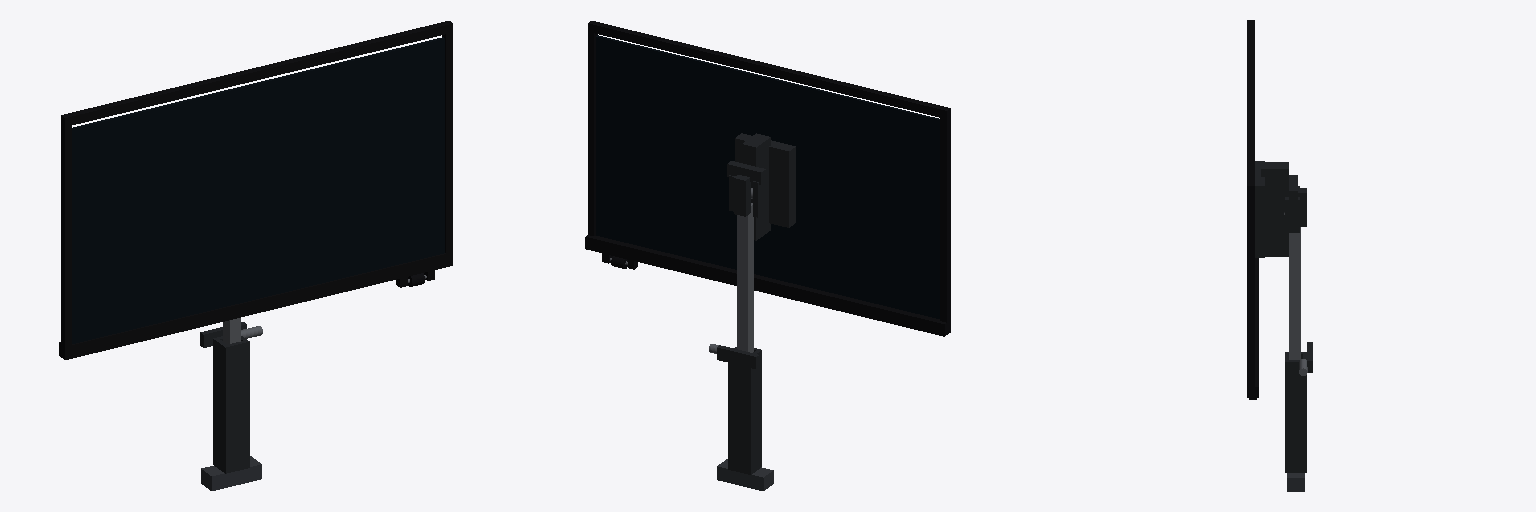
URDF robot description (compact_office_monitor):
<robot name="compact_office_monitor">
  <material name="charcoal">
    <color rgba="0.16 0.17 0.18 1" />
    </material>
  <material name="graphite">
    <color rgba="0.22 0.23 0.25 1" />
    </material>
  <material name="black">
    <color rgba="0.08 0.08 0.09 1" />
    </material>
  <material name="satin">
    <color rgba="0.36 0.37 0.39 1" />
    </material>
  <material name="screen_glass">
    <color rgba="0.06 0.09 0.11 0.94" />
    </material>
  <link name="base">
    <inertial>
      <origin xyz="0 -0.002 0.099" rpy="0 0 0" />
      <mass value="3.4" />
      <inertia ixx="0.0213361" ixy="0" ixz="0" iyy="0.0260961" iyz="0" izz="0.0252167" />
      </inertial>
    <visual name="foot">
      <origin xyz="0 -0.01 0.007" rpy="0 0 0" />
      <geometry>
        <mesh filename="assets/meshes/monitor_foot.obj" />
        </geometry>
      <material name="graphite">
        <color rgba="0.22 0.23 0.25 1" />
        </material>
      </visual>
    <visual name="foot_riser">
      <origin xyz="0 0.034 0.024" rpy="0 0 0" />
      <geometry>
        <box size="0.07 0.026 0.02" />
        </geometry>
      <material name="graphite">
        <color rgba="0.22 0.23 0.25 1" />
        </material>
      </visual>
    <visual name="sleeve_left_wall">
      <origin xyz="-0.014 0.034 0.118" rpy="0 0 0" />
      <geometry>
        <box size="0.006 0.03 0.168" />
        </geometry>
      <material name="charcoal">
        <color rgba="0.16 0.17 0.18 1" />
        </material>
      </visual>
    <visual name="sleeve_right_wall">
      <origin xyz="0.014 0.034 0.118" rpy="0 0 0" />
      <geometry>
        <box size="0.006 0.03 0.168" />
        </geometry>
      <material name="charcoal">
        <color rgba="0.16 0.17 0.18 1" />
        </material>
      </visual>
    <visual name="sleeve_front_wall">
      <origin xyz="0 0.022 0.118" rpy="0 0 0" />
      <geometry>
        <box size="0.022 0.006 0.168" />
        </geometry>
      <material name="charcoal">
        <color rgba="0.16 0.17 0.18 1" />
        </material>
      </visual>
    <visual name="sleeve_back_wall">
      <origin xyz="0 0.046 0.118" rpy="0 0 0" />
      <geometry>
        <box size="0.022 0.006 0.168" />
        </geometry>
      <material name="charcoal">
        <color rgba="0.16 0.17 0.18 1" />
        </material>
      </visual>
    <visual name="sleeve_rear_cap">
      <origin xyz="0 0.053 0.201" rpy="0 0 0" />
      <geometry>
        <box size="0.06 0.008 0.018" />
        </geometry>
      <material name="charcoal">
        <color rgba="0.16 0.17 0.18 1" />
        </material>
      </visual>
    <visual name="height_lock_knob">
      <origin xyz="0.03 0.044 0.2" rpy="0 1.5708 0" />
      <geometry>
        <cylinder radius="0.006" length="0.032" />
        </geometry>
      <material name="satin">
        <color rgba="0.36 0.37 0.39 1" />
        </material>
      </visual>
    </link>
  <link name="mast">
    <inertial>
      <origin xyz="0 0.008 0.098" rpy="0 0 0" />
      <mass value="1.1" />
      <inertia ixx="0.0141684" ixy="0" ixz="0" iyy="0.0143733" iyz="0" izz="0.000369967" />
      </inertial>
    <visual name="inner_mast">
      <origin xyz="0 0.008 0.03" rpy="0 0 0" />
      <geometry>
        <box size="0.016 0.016 0.36" />
        </geometry>
      <material name="satin">
        <color rgba="0.36 0.37 0.39 1" />
        </material>
      </visual>
    <visual name="tilt_post">
      <origin xyz="0 0.017 0.227" rpy="0 0 0" />
      <geometry>
        <box size="0.018 0.014 0.052" />
        </geometry>
      <material name="charcoal">
        <color rgba="0.16 0.17 0.18 1" />
        </material>
      </visual>
    <visual name="tilt_bridge">
      <origin xyz="0 0.006 0.255" rpy="0 0 0" />
      <geometry>
        <box size="0.052 0.012 0.018" />
        </geometry>
      <material name="charcoal">
        <color rgba="0.16 0.17 0.18 1" />
        </material>
      </visual>
    <visual name="left_tilt_cheek">
      <origin xyz="-0.018 0.004 0.224" rpy="0 0 0" />
      <geometry>
        <box size="0.008 0.02 0.05" />
        </geometry>
      <material name="charcoal">
        <color rgba="0.16 0.17 0.18 1" />
        </material>
      </visual>
    <visual name="right_tilt_cheek">
      <origin xyz="0.018 0.004 0.224" rpy="0 0 0" />
      <geometry>
        <box size="0.008 0.02 0.05" />
        </geometry>
      <material name="charcoal">
        <color rgba="0.16 0.17 0.18 1" />
        </material>
      </visual>
    </link>
  <link name="panel">
    <inertial>
      <origin xyz="0 -0.004 0" rpy="0 0 0" />
      <mass value="2.7" />
      <inertia ixx="0.0241389" ixy="0" ixz="0" iyy="0.0889389" iyz="0" izz="0.06642" />
      </inertial>
    <visual name="rear_shell">
      <origin xyz="0 -0.05 0" rpy="0 0 0" />
      <geometry>
        <mesh filename="assets/meshes/monitor_rear_shell.obj" />
        </geometry>
      <material name="charcoal">
        <color rgba="0.16 0.17 0.18 1" />
        </material>
      </visual>
    <visual name="top_bezel">
      <origin xyz="0 -0.053 0.155" rpy="0 0 0" />
      <geometry>
        <box size="0.54 0.01 0.012" />
        </geometry>
      <material name="black">
        <color rgba="0.08 0.08 0.09 1" />
        </material>
      </visual>
    <visual name="bottom_bezel">
      <origin xyz="0 -0.05 -0.152" rpy="0 0 0" />
      <geometry>
        <box size="0.54 0.016 0.018" />
        </geometry>
      <material name="black">
        <color rgba="0.08 0.08 0.09 1" />
        </material>
      </visual>
    <visual name="left_bezel">
      <origin xyz="-0.265 -0.053 0" rpy="0 0 0" />
      <geometry>
        <box size="0.01 0.01 0.322" />
        </geometry>
      <material name="black">
        <color rgba="0.08 0.08 0.09 1" />
        </material>
      </visual>
    <visual name="right_bezel">
      <origin xyz="0.265 -0.053 0" rpy="0 0 0" />
      <geometry>
        <box size="0.01 0.01 0.322" />
        </geometry>
      <material name="black">
        <color rgba="0.08 0.08 0.09 1" />
        </material>
      </visual>
    <visual name="screen">
      <origin xyz="0 -0.054 0" rpy="0 0 0" />
      <geometry>
        <box size="0.52 0.004 0.286" />
        </geometry>
      <material name="screen_glass">
        <color rgba="0.06 0.09 0.11 0.94" />
        </material>
      </visual>
    <visual name="mount_block">
      <origin xyz="0 -0.043 0" rpy="0 0 0" />
      <geometry>
        <box size="0.082 0.018 0.11" />
        </geometry>
      <material name="charcoal">
        <color rgba="0.16 0.17 0.18 1" />
        </material>
      </visual>
    <visual name="tilt_spine">
      <origin xyz="0 -0.02 0" rpy="0 0 0" />
      <geometry>
        <box size="0.022 0.038 0.134" />
        </geometry>
      <material name="charcoal">
        <color rgba="0.16 0.17 0.18 1" />
        </material>
      </visual>
    <visual name="tilt_barrel">
      <origin xyz="0 0 0" rpy="0 1.5708 0" />
      <geometry>
        <cylinder radius="0.007" length="0.028" />
        </geometry>
      <material name="satin">
        <color rgba="0.36 0.37 0.39 1" />
        </material>
      </visual>
    <visual name="wheel_left_tab">
      <origin xyz="0.203 -0.05 -0.168" rpy="0 0 0" />
      <geometry>
        <box size="0.01 0.01 0.014" />
        </geometry>
      <material name="black">
        <color rgba="0.08 0.08 0.09 1" />
        </material>
      </visual>
    <visual name="wheel_right_tab">
      <origin xyz="0.241 -0.05 -0.168" rpy="0 0 0" />
      <geometry>
        <box size="0.01 0.01 0.014" />
        </geometry>
      <material name="black">
        <color rgba="0.08 0.08 0.09 1" />
        </material>
      </visual>
    </link>
  <link name="control_wheel">
    <inertial>
      <origin xyz="0 0 0" rpy="0 1.5708 0" />
      <mass value="0.03" />
      <inertia ixx="3.1675e-06" ixy="0" ixz="0" iyy="3.1675e-06" iyz="0" izz="1.215e-06" />
      </inertial>
    <visual name="wheel_tire">
      <origin xyz="0 0 0" rpy="0 1.5708 0" />
      <geometry>
        <cylinder radius="0.008" length="0.018" />
        </geometry>
      <material name="black">
        <color rgba="0.08 0.08 0.09 1" />
        </material>
      </visual>
    <visual name="wheel_axle">
      <origin xyz="0 0 0" rpy="0 1.5708 0" />
      <geometry>
        <cylinder radius="0.0025" length="0.032" />
        </geometry>
      <material name="satin">
        <color rgba="0.36 0.37 0.39 1" />
        </material>
      </visual>
    </link>
  <joint name="base_to_mast" type="prismatic">
    <origin xyz="0 0.025 0.202" rpy="0 0 0" />
    <parent link="base" />
    <child link="mast" />
    <axis xyz="0 0 1" />
    <limit effort="80" velocity="0.12" lower="0" upper="0.1" />
    </joint>
  <joint name="mast_to_panel" type="revolute">
    <origin xyz="0 0 0.224" rpy="0 0 0" />
    <parent link="mast" />
    <child link="panel" />
    <axis xyz="-1 0 0" />
    <limit effort="18" velocity="1.5" lower="-0.18" upper="0.34" />
    </joint>
  <joint name="panel_to_control_wheel" type="continuous">
    <origin xyz="0.222 -0.05 -0.171" rpy="0 0 0" />
    <parent link="panel" />
    <child link="control_wheel" />
    <axis xyz="1 0 0" />
    <limit effort="0.4" velocity="8" />
    </joint>
  </robot>

--- What the picture shows (computed from the rendered views, not written in the file) ---
Views: 3 orthographic renders of the robot side by side, from view 1: azimuth 30°, elevation 25°; view 2: azimuth 150°, elevation 25°; view 3: azimuth 270°, elevation 25°.
Model compact_office_monitor with 4 links and 3 joints (1 revolute, 1 continuous, 1 prismatic), rooted at base, posed all joints at 0.
Links seen in each view (by area): view 1: panel, base; view 2: panel, base, mast; view 3: panel, base, mast.
Boxes of the visible links, left/top/right/bottom form: panel: left=59, top=21, right=452, bottom=359; base: left=200, top=322, right=262, bottom=490; panel: left=585, top=21, right=950, bottom=336; base: left=709, top=344, right=773, bottom=490; mast: left=727, top=161, right=765, bottom=352; panel: left=1247, top=20, right=1288, bottom=399; base: left=1285, top=342, right=1312, bottom=491; mast: left=1285, top=175, right=1306, bottom=359.
Bounding box of the posed robot: 0.54 × 0.09 × 0.573 m (x, y, z).
0 mesh visuals loaded from 2 distinct referenced files (none loaded); not drawn: 2 (reference not matched to a file when rendering).
